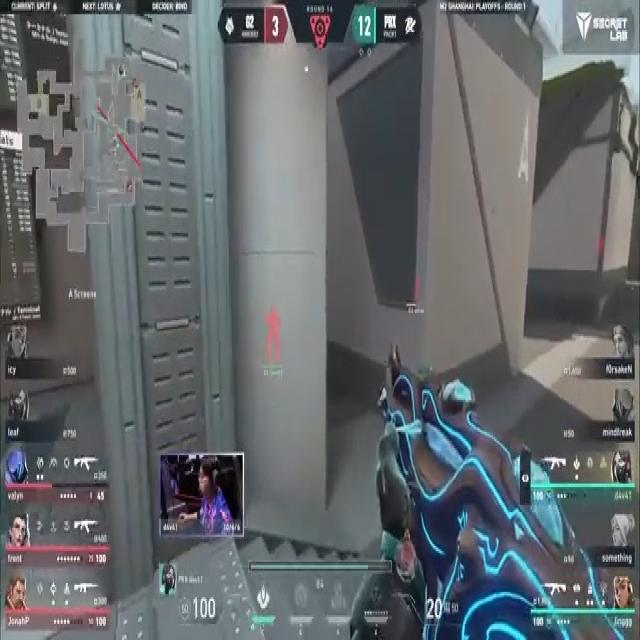enemy behind wall: (264, 295, 283, 367)
